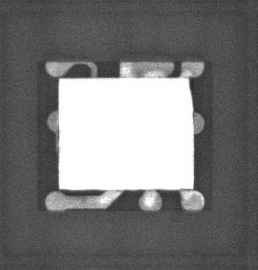DIE_BROKEN: (187, 77, 193, 98)
